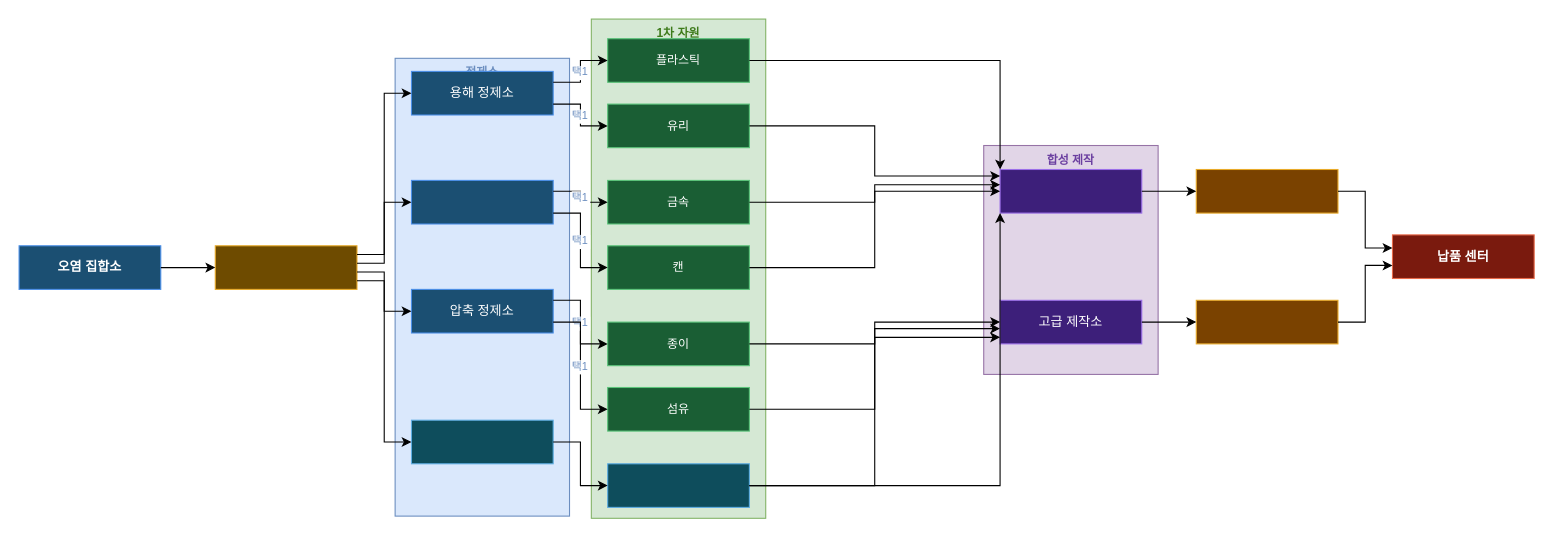
The diagram is 1553 pixels wide and 537 high, and some of its shapes have lost their labels. Here are the shapes that lost their labels. From the top down, the centre of each, then its label:
At pixel 481 201: "단조 정제소".
At pixel 1070 190: "합성 제작소".
At pixel 1266 190: "재생 복합재".
At pixel 285 267: "쓰레기".
At pixel 1266 321: "재생 합금".
At pixel 481 441: "픽셀 재구성소".
At pixel 678 485: "픽셀 파편 ★희귀".
